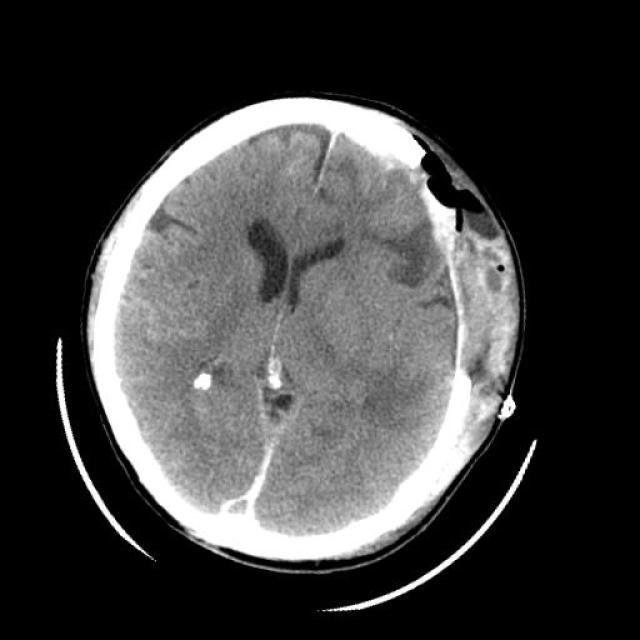Subarachnoid: (239, 383, 321, 452)
Subdural: (190, 435, 300, 560)
